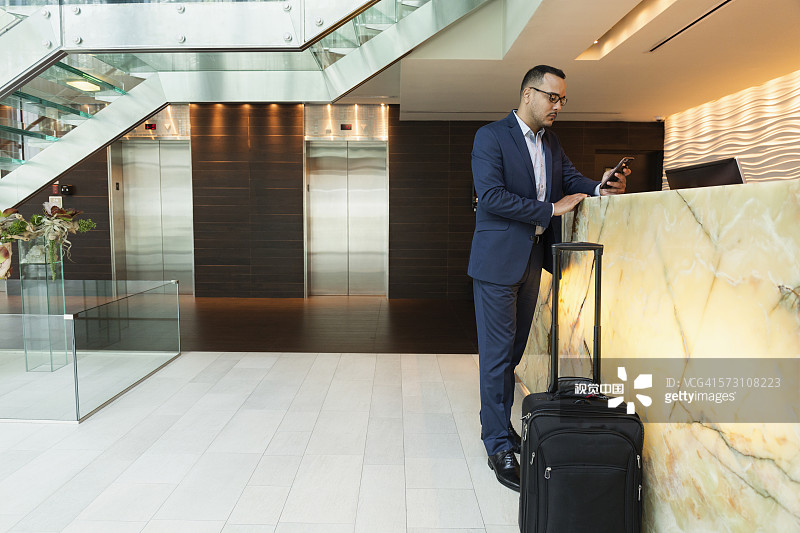no-phone: (542, 188, 589, 220)
reading: (590, 153, 642, 202)
